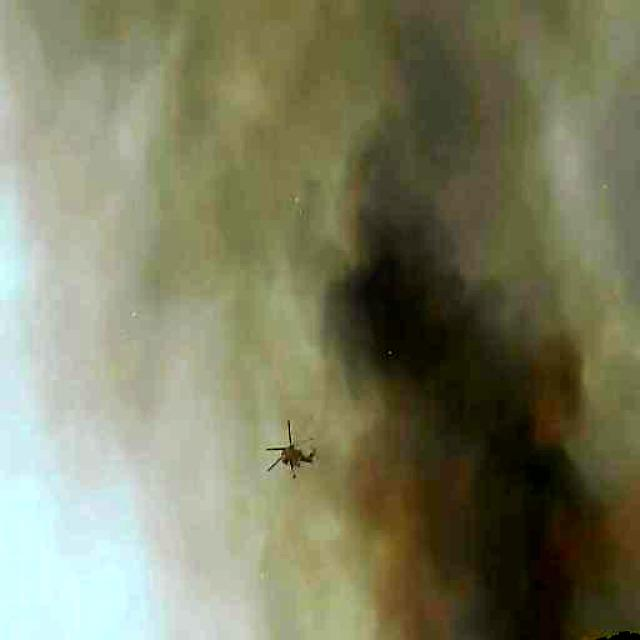drone: (262, 425, 322, 484)
